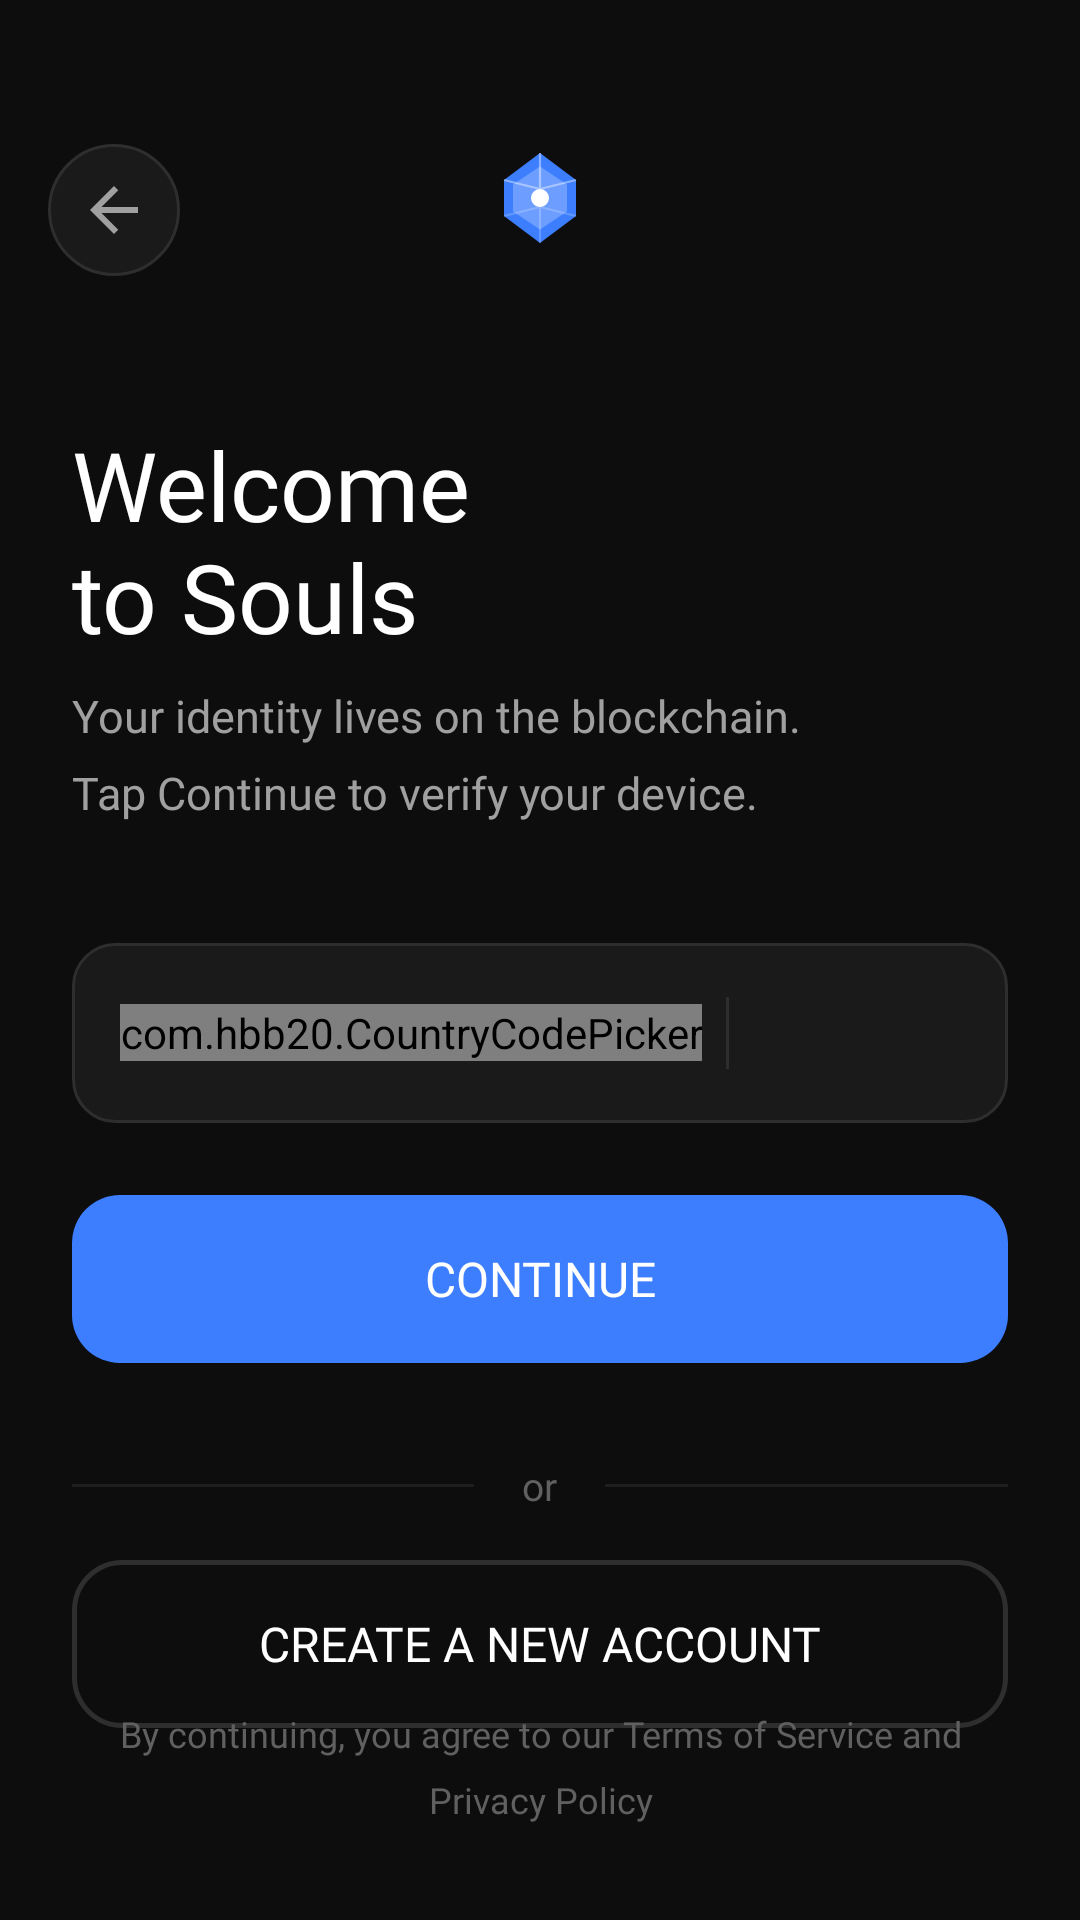

Screen size 1080*1920. Icon name, then its center in pixels as (x=x, y=y):
arrow back: (x=114, y=210)
